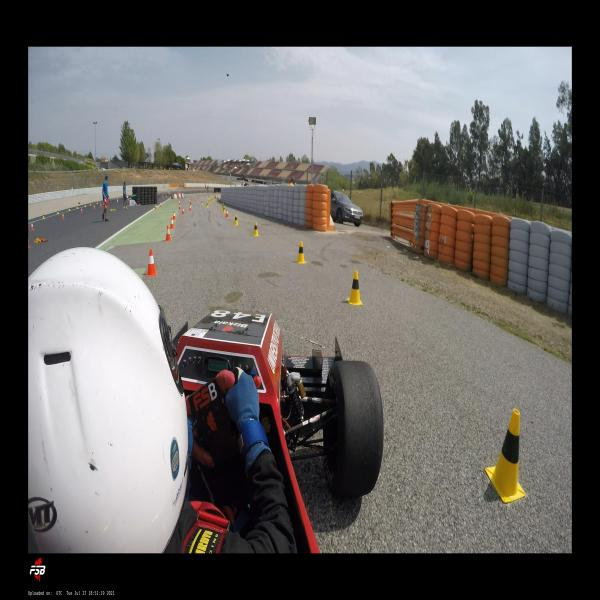orange_cone: (145, 249, 157, 276), (165, 225, 171, 242), (169, 217, 174, 229), (172, 211, 176, 220), (31, 223, 34, 231), (61, 213, 64, 220), (226, 209, 228, 218), (182, 207, 184, 215), (189, 205, 191, 211), (155, 204, 157, 210), (94, 204, 96, 209), (178, 201, 180, 205), (100, 203, 102, 207), (179, 204, 180, 209), (81, 209, 82, 214), (160, 202, 161, 207), (189, 199, 190, 203)
yellow_cone: (485, 409, 526, 503), (347, 271, 363, 305), (296, 241, 306, 264), (253, 222, 258, 236), (234, 214, 238, 226), (223, 206, 225, 213), (68, 206, 70, 212), (222, 203, 224, 209), (206, 202, 208, 208), (42, 214, 44, 219), (76, 204, 78, 209), (202, 200, 204, 205), (208, 199, 210, 204), (96, 200, 98, 204), (190, 202, 192, 206), (57, 210, 58, 215), (85, 203, 86, 207), (90, 202, 91, 206)
